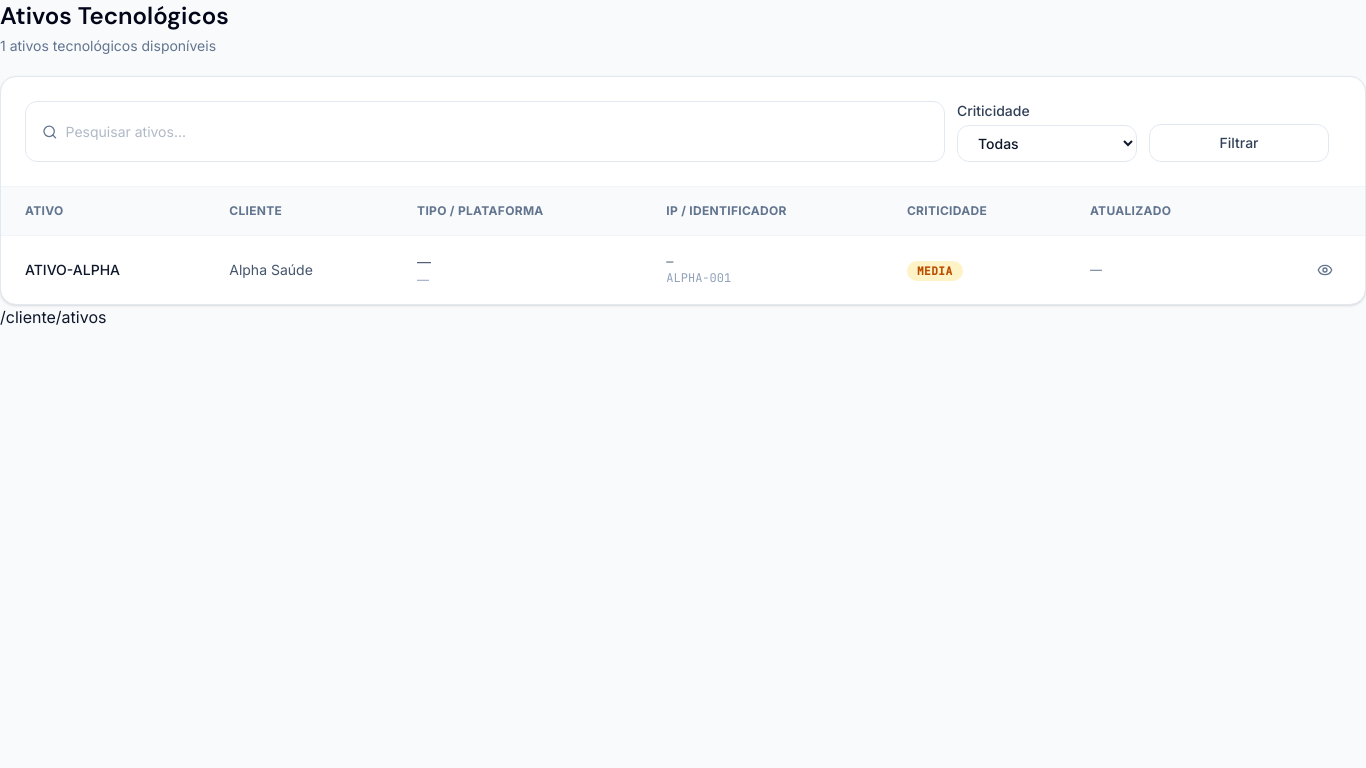
Scenario: AssetsWorkspace para Cliente › usa um assetId canónico no URL e Voltar aos Ativos preserva a lista do Cliente
The width and height of the screenshot is (1366, 768).
Click the button named "Ver detalhe de ATIVO-ALPHA". click: (1325, 270)
box: left=1309, top=254, right=1341, bottom=286
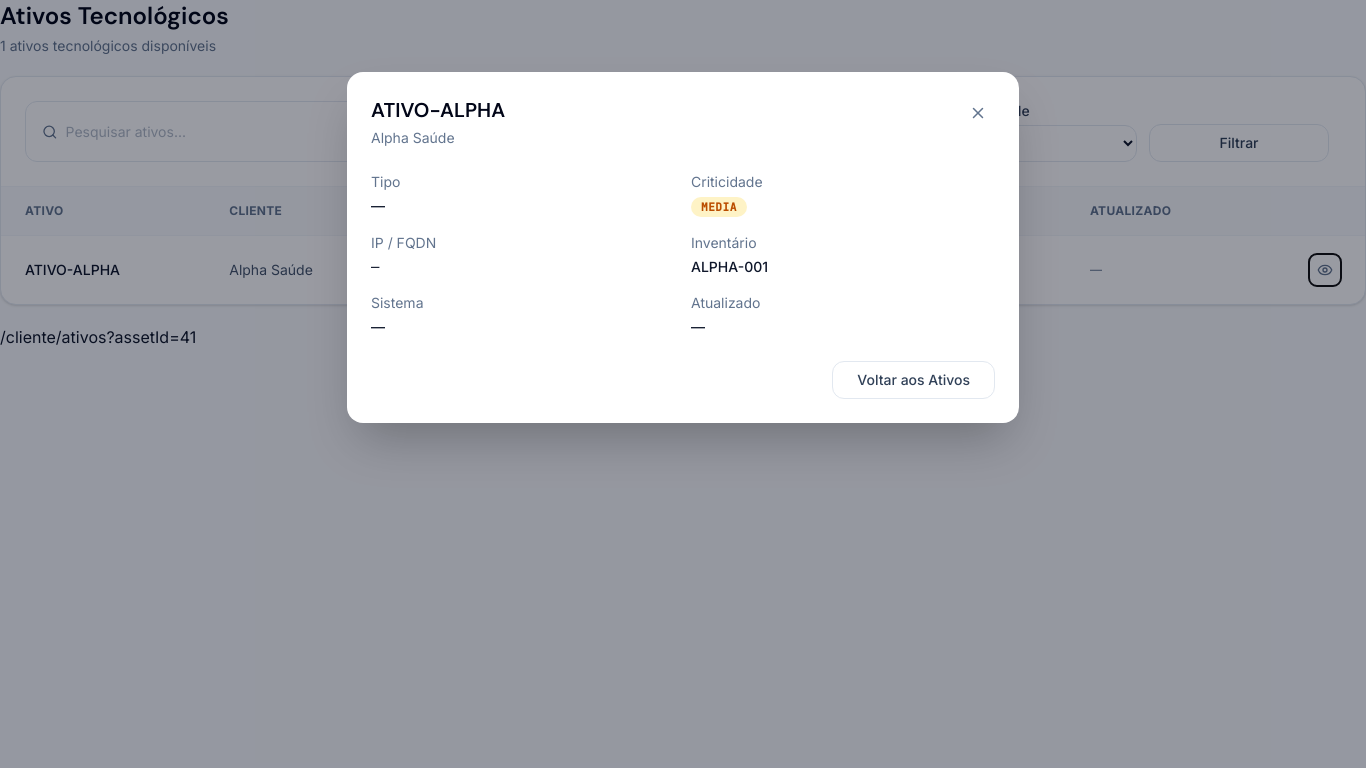
Result: the dialog named "Detalhe do ativo" shows "ATIVO-ALPHA" at left=371, top=97, right=505, bottom=123
Result: the text with test id "location" reads "/cliente/ativos?assetId=41" at left=0, top=327, right=196, bottom=347
Click the button "Voltar aos Ativos". click: (914, 380)
box: left=832, top=361, right=995, bottom=399
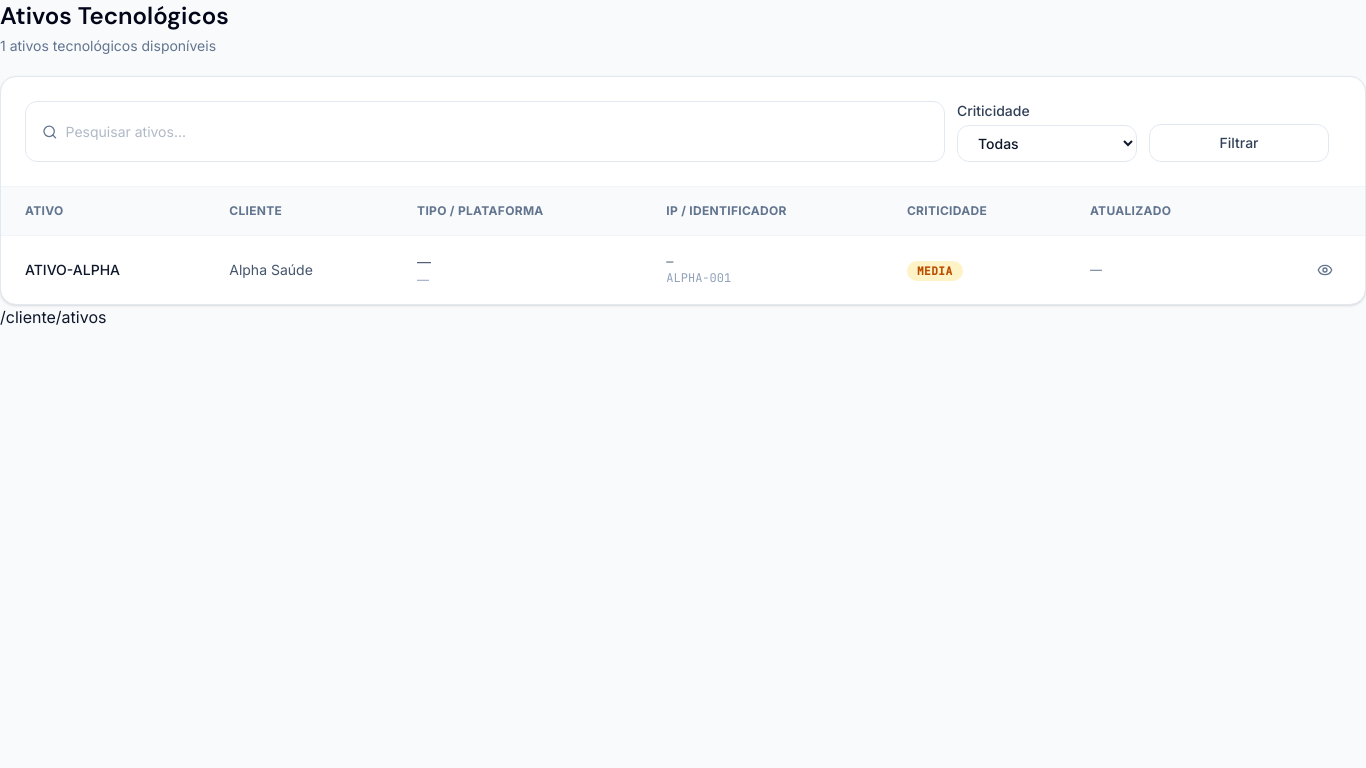
Expected: the text "ATIVO-ALPHA" is shown, left=1, top=236, right=205, bottom=304
Result: the text with test id "location" reads "/cliente/ativos" at left=0, top=307, right=106, bottom=327
